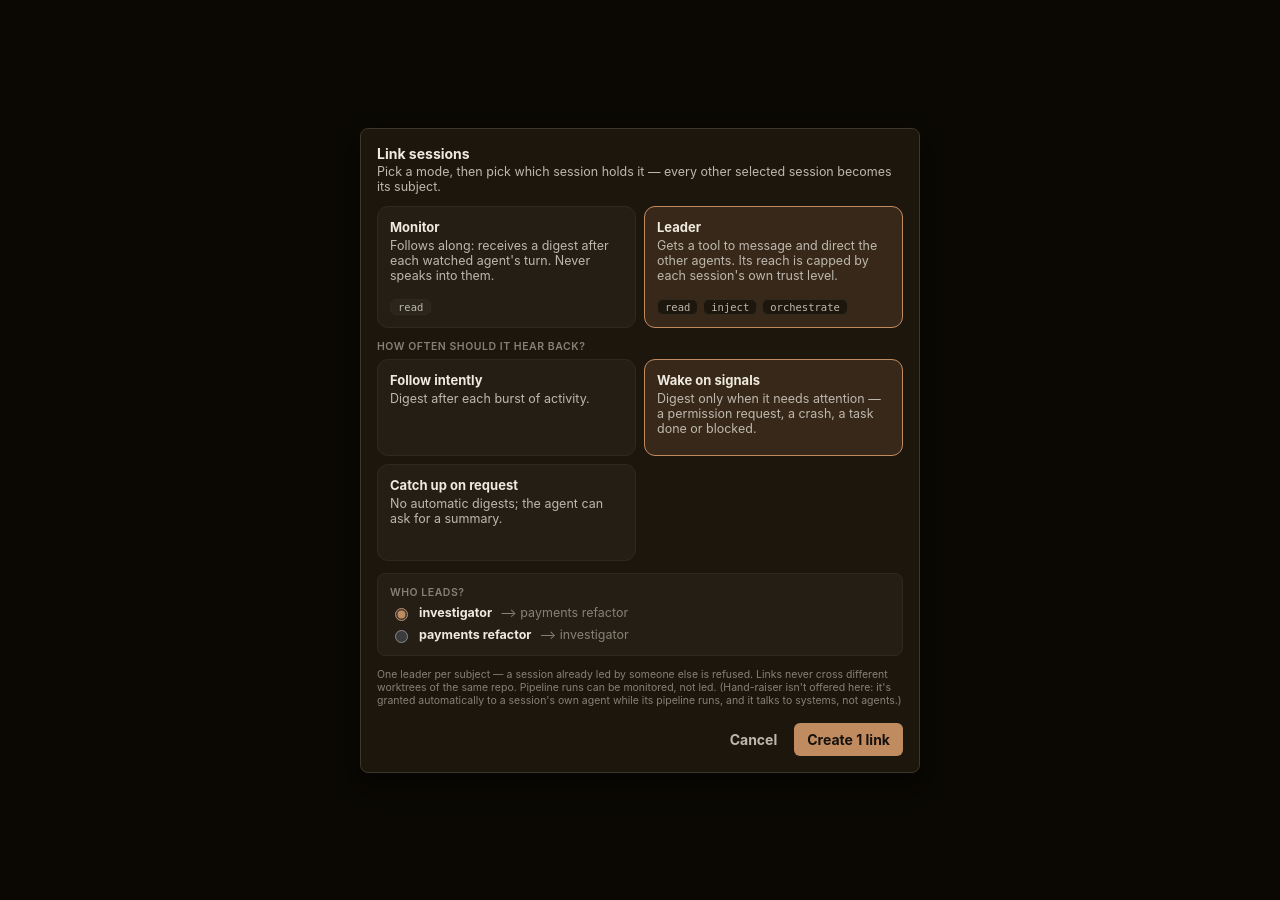
it: LinkChooserDialog › shows a RouterValidationError's field errors without closing
The width and height of the screenshot is (1280, 900).
Click the button "Create 1 link" at (849, 739), box [794, 722, 903, 756]
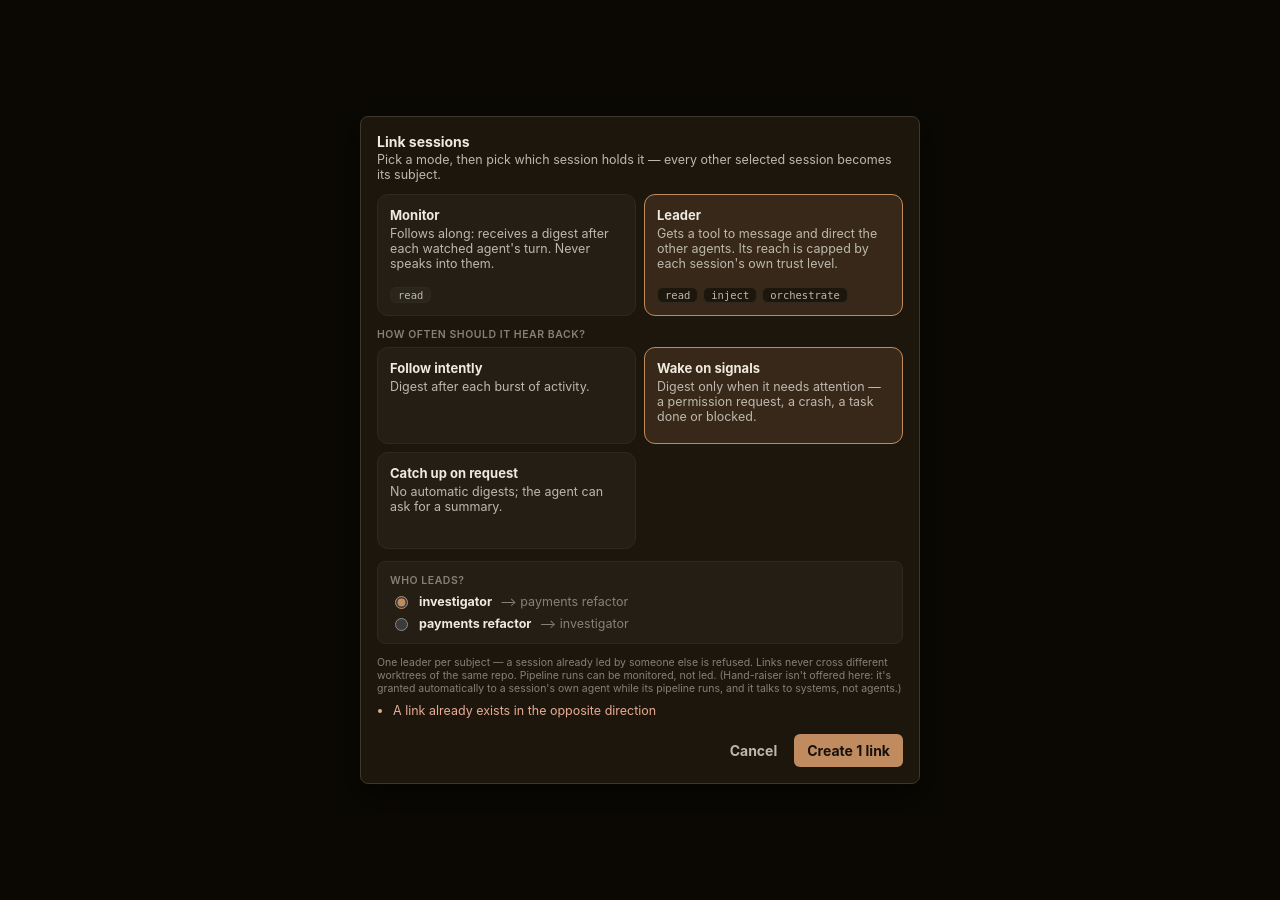
Result: the list item "A link already exists in the opposite direction" is shown at [393, 703, 656, 718]
